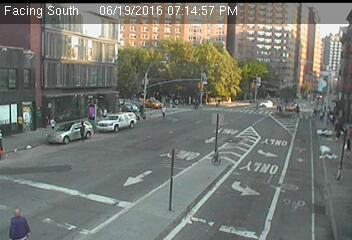neg: (66, 64, 84, 88), (18, 91, 34, 113), (305, 183, 321, 205), (122, 121, 138, 142), (22, 134, 38, 154), (329, 152, 344, 172), (192, 9, 207, 28), (304, 123, 318, 142), (268, 180, 282, 199), (222, 15, 236, 34), (44, 46, 57, 63), (230, 177, 243, 194), (287, 154, 300, 171), (166, 164, 178, 181), (193, 176, 205, 193), (305, 60, 317, 76), (168, 32, 180, 48), (97, 145, 109, 161), (254, 22, 266, 38), (134, 10, 146, 26), (274, 124, 285, 139), (64, 27, 75, 41), (189, 127, 199, 142), (225, 124, 235, 138), (190, 54, 200, 68), (274, 57, 284, 70), (236, 56, 246, 69), (19, 60, 29, 73), (142, 55, 151, 68), (113, 55, 122, 66), (162, 137, 171, 148), (242, 100, 250, 111), (96, 44, 103, 54), (59, 154, 66, 164), (31, 28, 38, 37), (206, 141, 213, 150), (132, 36, 138, 44)
pos: (7, 208, 29, 236), (73, 119, 89, 141), (157, 103, 170, 120), (46, 115, 58, 129), (191, 97, 201, 110)
